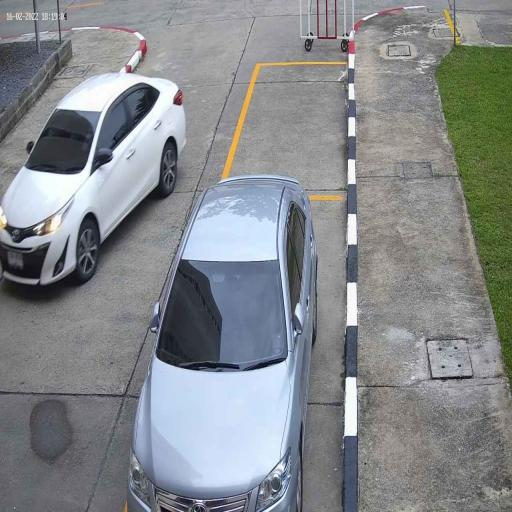car: (127, 173, 318, 512), (0, 70, 187, 292)
